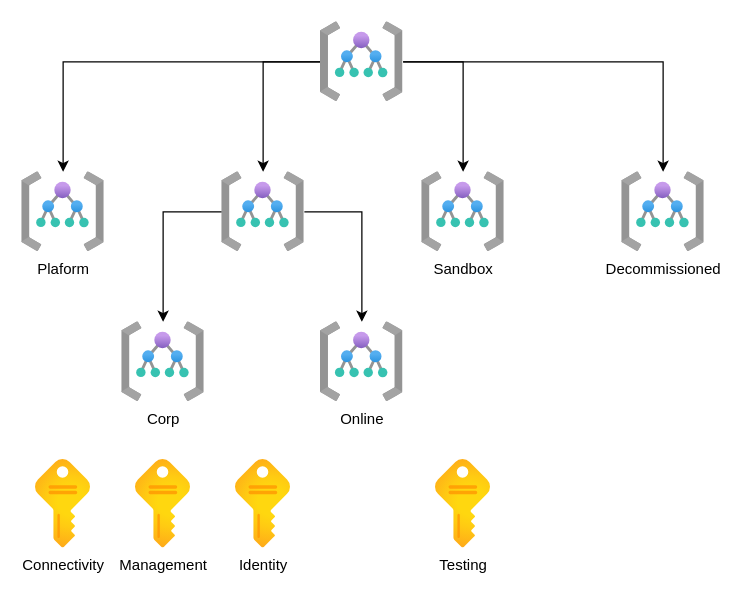
The diagram is 741 pixels wide and 595 high, and some of its shapes have lost their labels. Here are the shapes that lost their labels. From the top down, the box of each, then its label:
(320, 21, 402, 101): Core
(221, 171, 304, 251): Workloads
